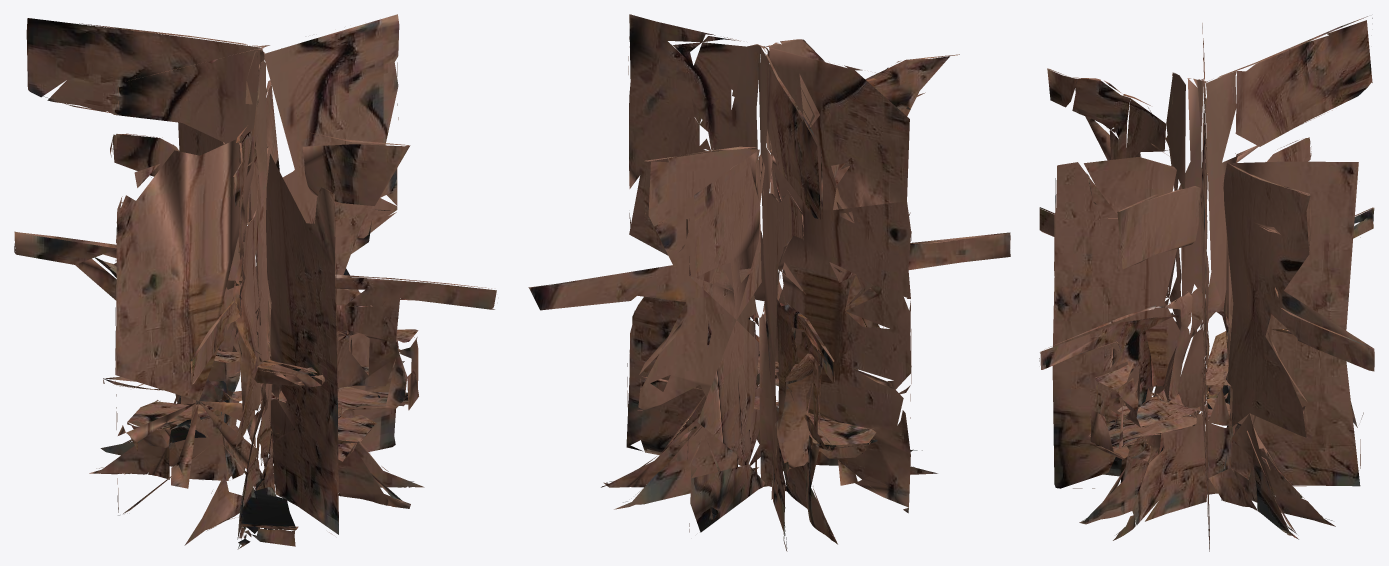
File: dev_kutuk.glb
The picture shows the model from 3 angles, left to right: view 1: azimuth 30°, elevation 25°; view 2: azimuth 150°, elevation 25°; view 3: azimuth 270°, elevation 25°; orthographic projection. The views are drawn at different scales.
Visible parts, largest first — view 1: geometry_0; view 2: geometry_0; view 3: geometry_0.
Boxes of the visible parts, x1,y1,x2,y2 form: geometry_0: (14,14,496,549); geometry_0: (528,14,1010,551); geometry_0: (1039,16,1374,551).
Bounding box in the file's own units: 0.7448 × 1 × 0.7443.
Materials: 1 (1 with a texture image).
